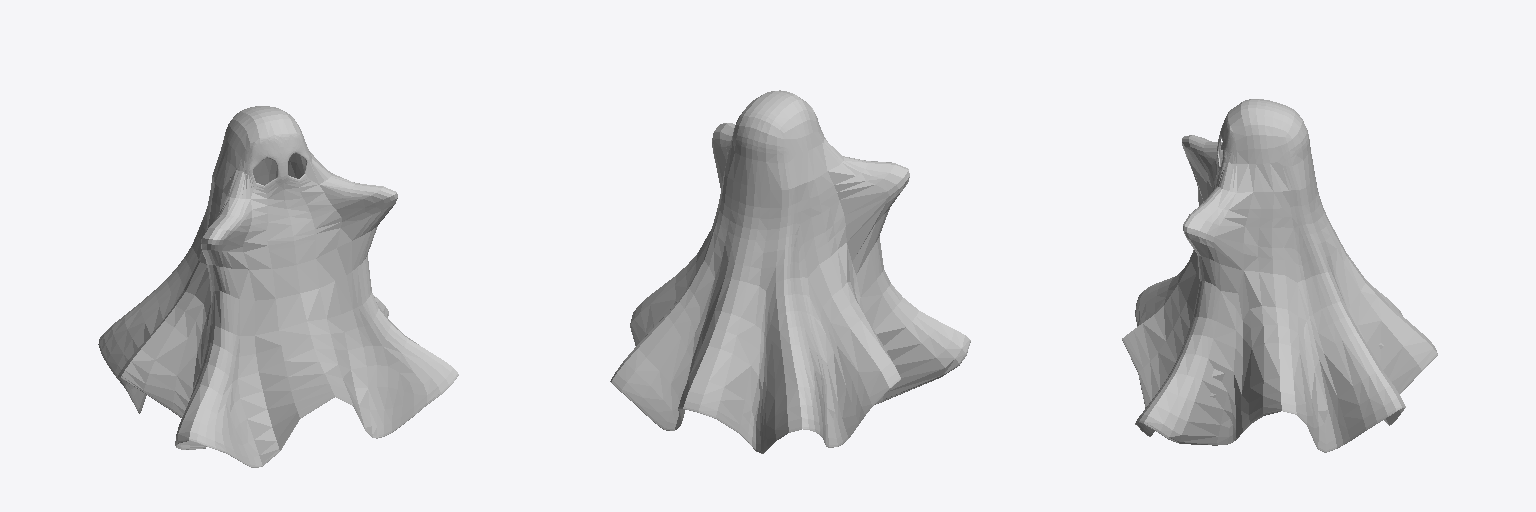
The picture shows the model from 3 angles: view 1: azimuth 30°, elevation 25°; view 2: azimuth 150°, elevation 25°; view 3: azimuth 270°, elevation 25°; orthographic projection.
Visible parts, largest first — view 1: youlinguu2:Group3 walk1; view 2: youlinguu2:Group3 walk1; view 3: youlinguu2:Group3 walk1.
Boxes of the visible parts, box(x1,y1,x2,y2) form: youlinguu2:Group3 walk1: box(98, 106, 458, 467); youlinguu2:Group3 walk1: box(610, 90, 970, 453); youlinguu2:Group3 walk1: box(1122, 99, 1437, 452).
Size of the model in its own units: 37.29 by 39.19 by 36.88.